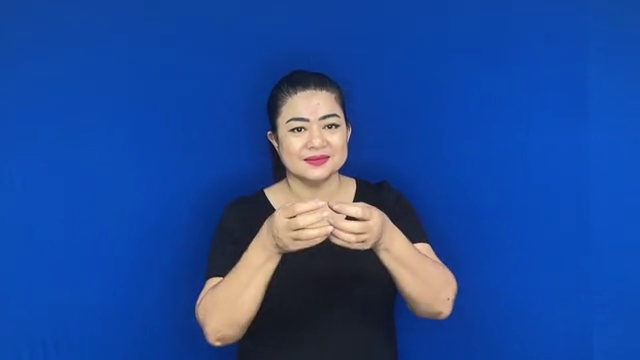egg: (253, 192, 400, 260)
